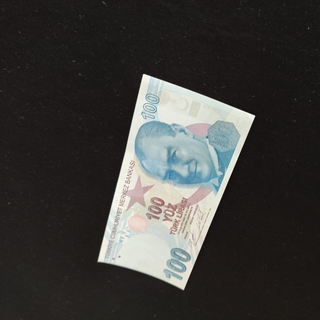100TLFront: (97, 73, 256, 291)
